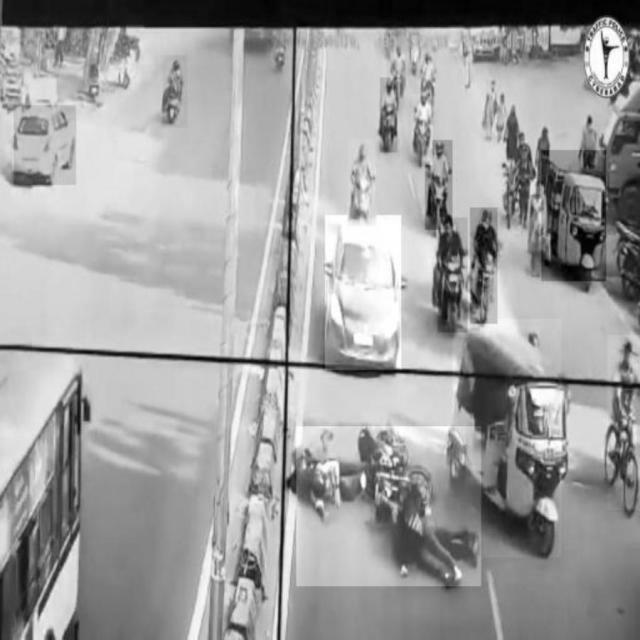accident: (297, 427, 482, 587)
vehicle: (453, 319, 561, 557), (326, 215, 402, 369), (542, 150, 606, 281), (608, 335, 640, 510), (14, 105, 76, 185), (437, 218, 467, 332), (470, 208, 497, 324), (425, 141, 453, 231), (348, 139, 376, 227), (163, 55, 188, 127), (411, 94, 431, 165), (381, 77, 398, 153)
